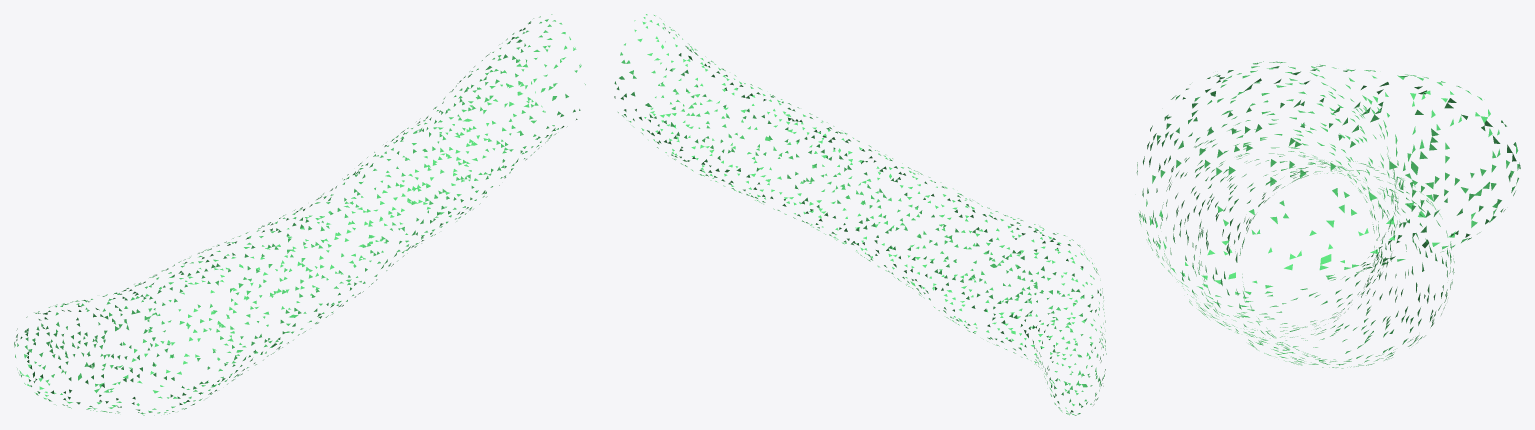
The model's file is morph_020.glb.
3 renders of one model, left to right at view 1: azimuth 30°, elevation 25°; view 2: azimuth 150°, elevation 25°; view 3: azimuth 270°, elevation 25°, orthographic. The views are drawn at different scales.
Size of the model in its own units: 86.22 by 45.85 by 29.92.
